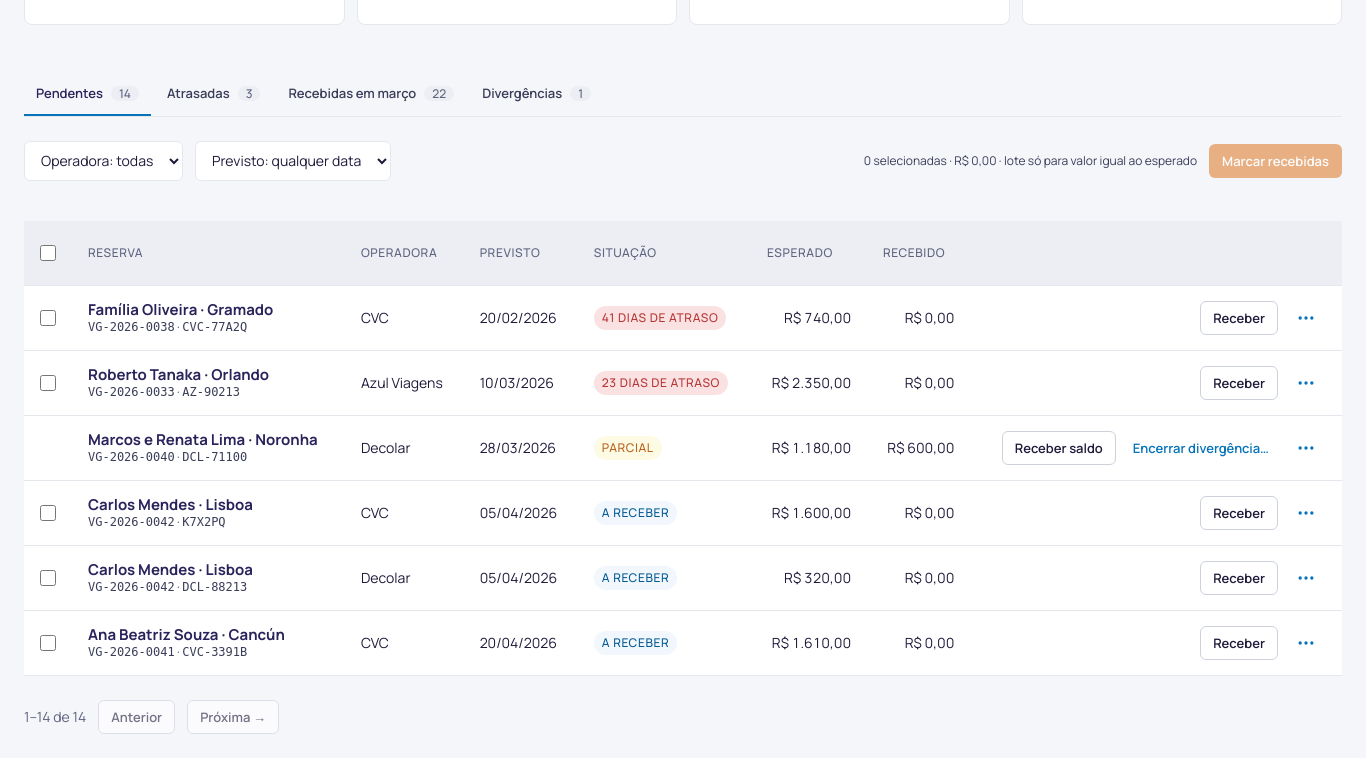
Scenario: Marcar recebidas abre o modal de lote com as reservas selecionadas
(page scrolled)
Expected: the button "Marcar recebidas" is disabled, x1=1209 y1=144 x2=1342 y2=178
Click the checkbox named "Selecionar K7X2PQ": (48, 513) x1=40 y1=505 x2=56 y2=521
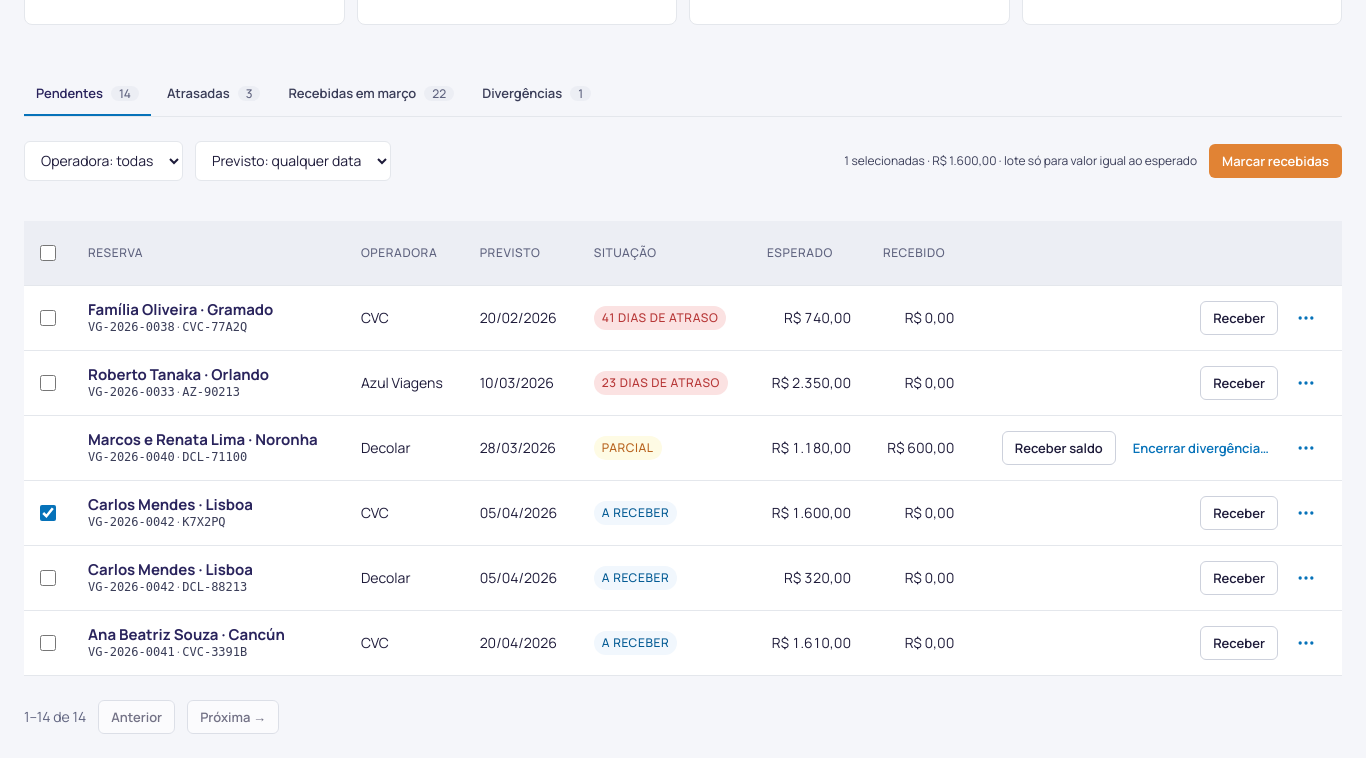
Click the checkbox named "Selecionar DCL-88213": (48, 578) x1=40 y1=570 x2=56 y2=586
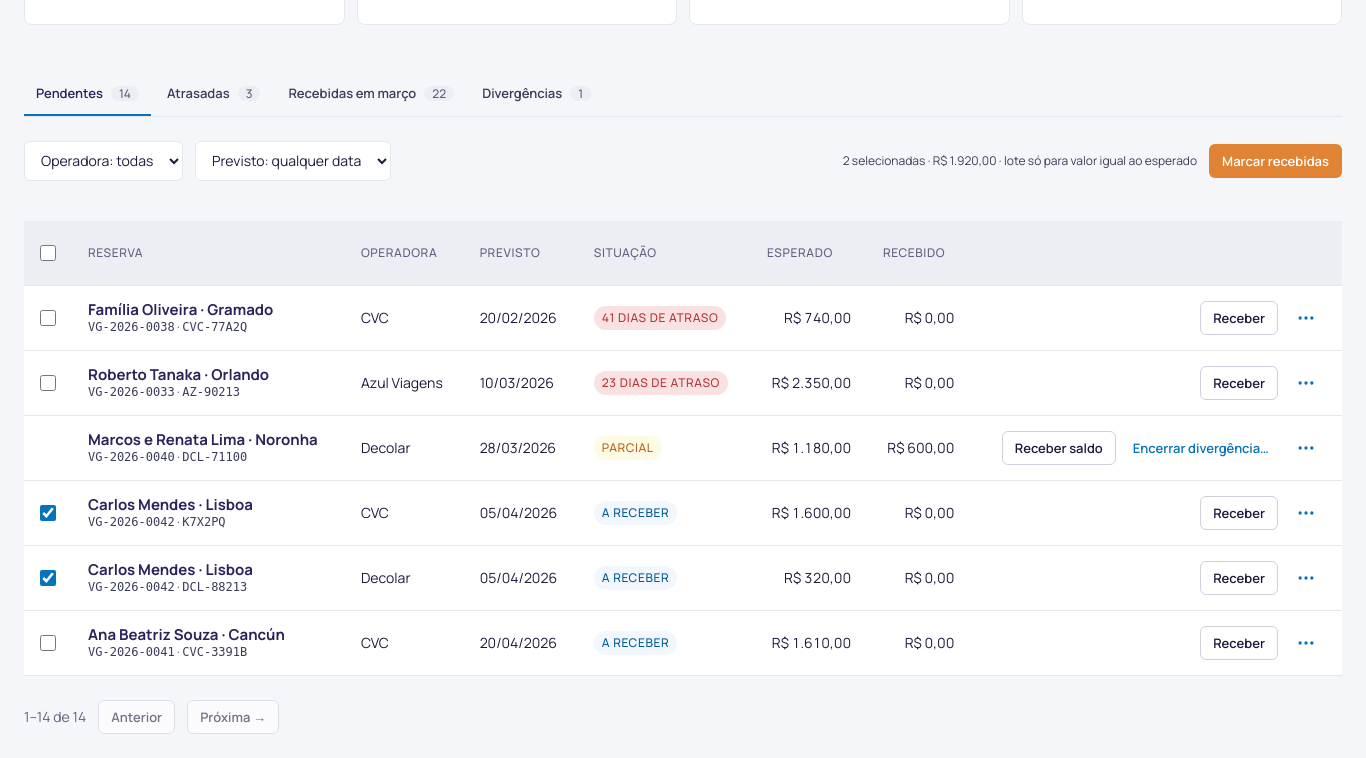
Click the button "Marcar recebidas": (1276, 161) x1=1209 y1=144 x2=1342 y2=178
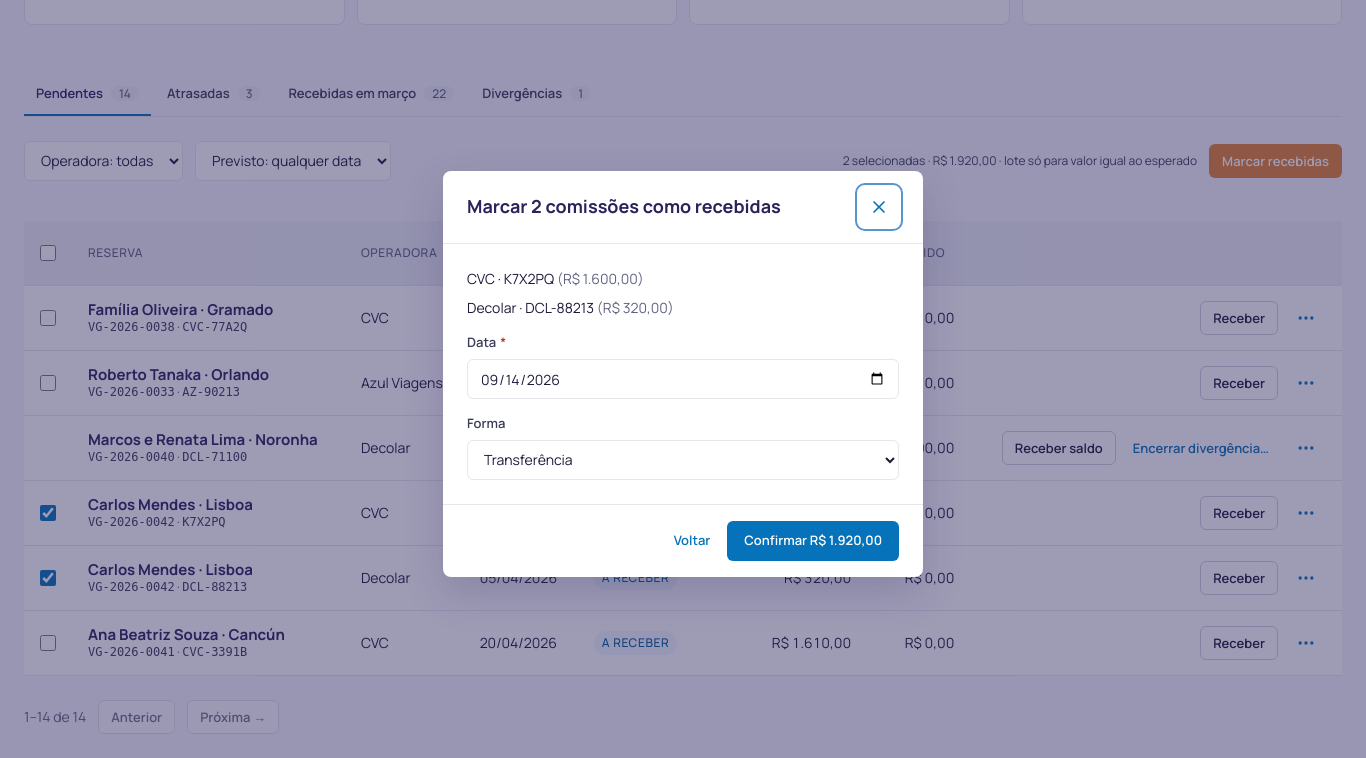
Now the heading "Marcar 2 comissões como recebidas" is shown, box x1=467 y1=195 x2=781 y2=219
Now the button "Confirmar R$ 1.920,00" is shown, box x1=727 y1=521 x2=899 y2=561
